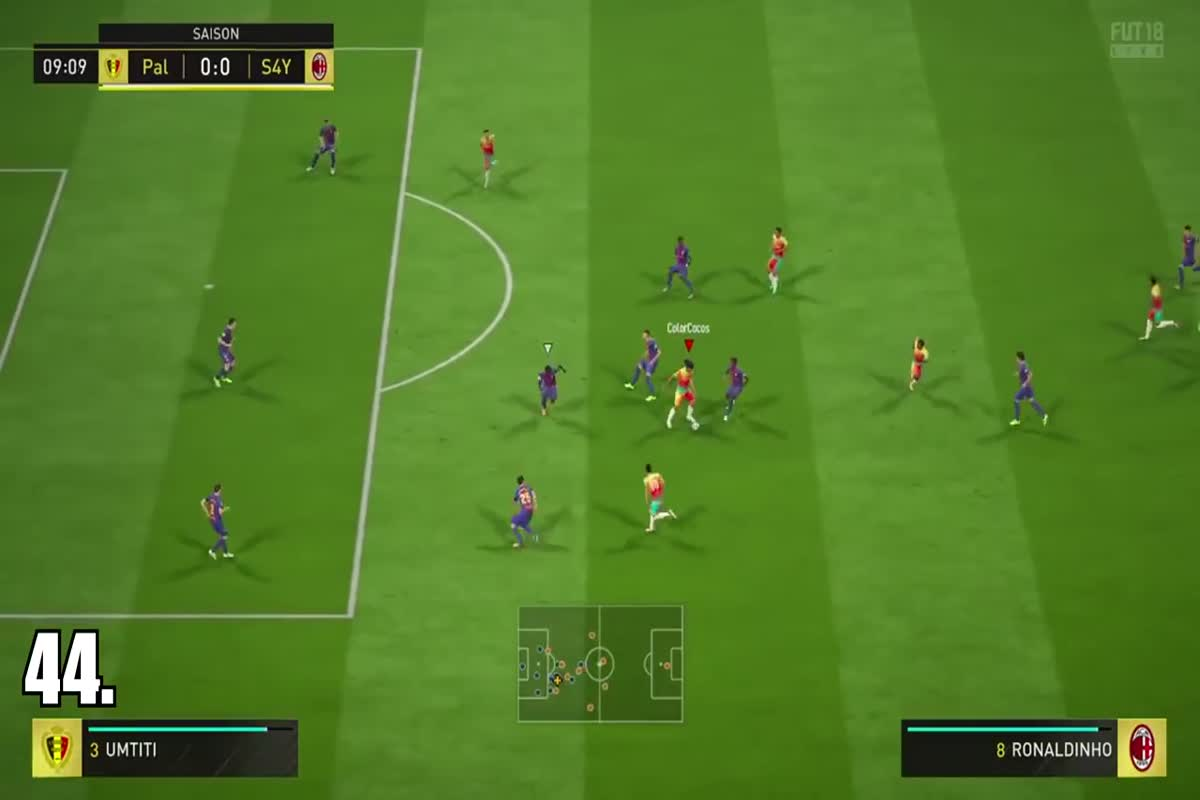ball: (684, 419, 709, 437)
